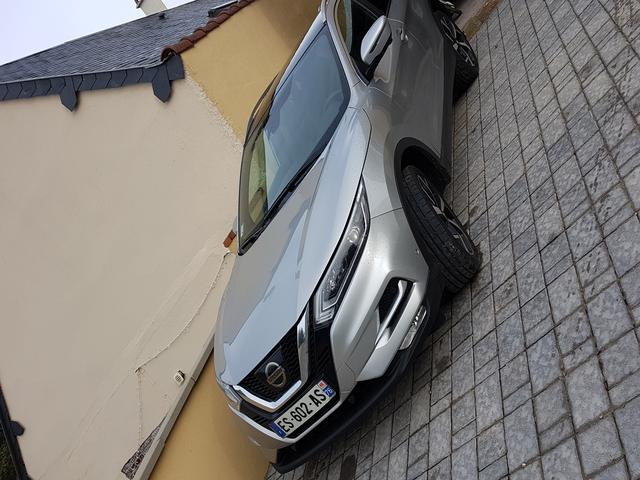Quashquai: (268, 375, 340, 441)
